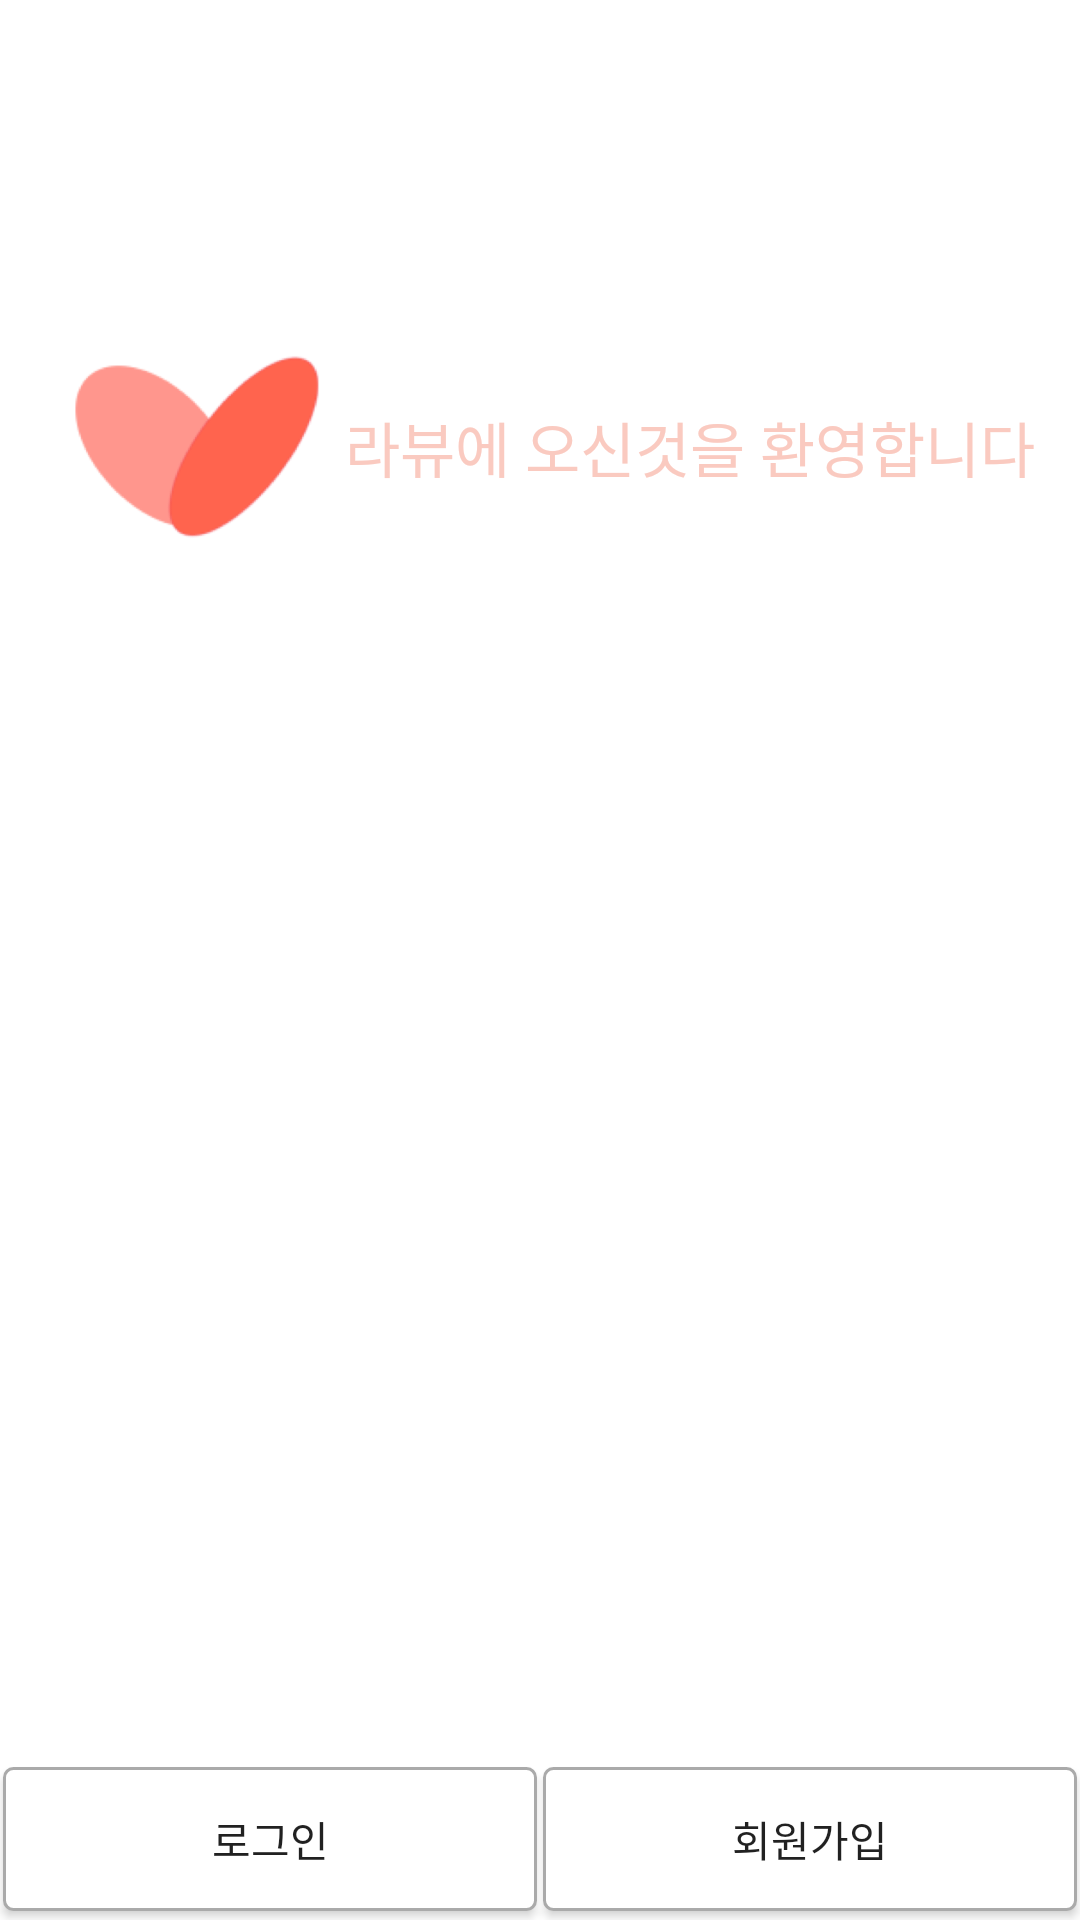

Locate icon controls on the screen. Image size 1080*1920, boxes as (x1, y1, x2, y2).
heart: (75, 356, 319, 537)
